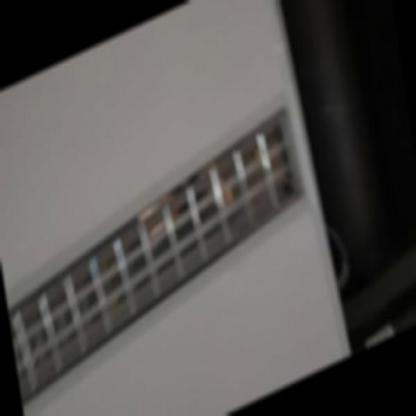light_off: (0, 79, 328, 416)
